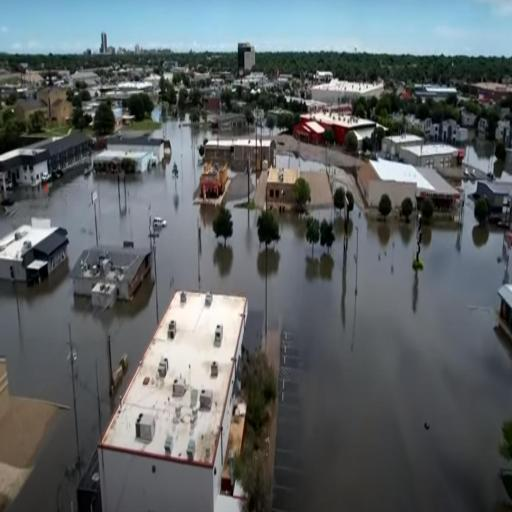flood: (268, 182, 512, 510), (0, 120, 265, 338), (0, 273, 156, 462), (276, 133, 361, 177), (464, 138, 512, 179), (440, 167, 462, 178)
house: (98, 289, 265, 512), (71, 242, 155, 307), (0, 218, 70, 293), (359, 155, 418, 227), (206, 138, 276, 184), (0, 143, 50, 205), (44, 130, 94, 184), (415, 164, 460, 224), (94, 144, 167, 180), (312, 76, 386, 108), (475, 174, 512, 233), (401, 141, 462, 176), (333, 108, 378, 155), (265, 171, 299, 216), (199, 157, 228, 206), (381, 133, 423, 161), (497, 277, 512, 348), (294, 117, 325, 149), (238, 42, 257, 82), (49, 95, 73, 124), (0, 354, 8, 415), (100, 29, 110, 60)
